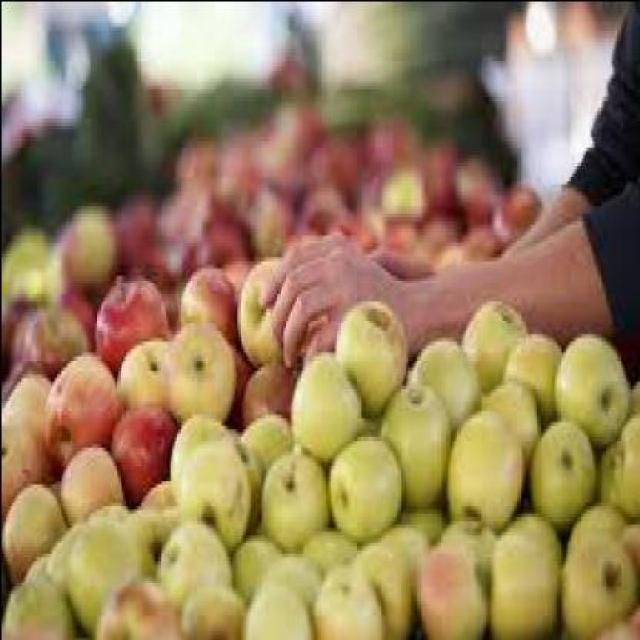BIODEGRADABLE: (62, 512, 153, 630), (558, 502, 636, 629), (442, 402, 520, 522), (486, 509, 556, 636), (38, 348, 112, 464), (550, 326, 624, 440), (156, 318, 233, 424), (324, 424, 398, 534), (173, 434, 244, 548), (91, 263, 169, 366), (376, 380, 444, 498), (332, 292, 402, 406), (287, 339, 358, 450), (258, 442, 327, 553), (414, 530, 484, 636), (526, 413, 594, 519), (404, 325, 476, 421), (109, 399, 176, 501), (55, 435, 123, 527), (496, 322, 558, 421), (153, 519, 229, 599), (460, 292, 525, 385), (2, 474, 60, 574), (351, 541, 411, 636), (93, 570, 178, 636), (233, 248, 282, 359), (307, 563, 378, 637), (167, 410, 228, 490), (2, 569, 69, 637), (593, 414, 638, 515), (175, 259, 234, 333), (478, 372, 536, 446), (175, 256, 234, 326), (242, 575, 309, 636), (0, 406, 38, 512), (20, 304, 85, 365), (62, 202, 111, 282), (178, 575, 240, 636), (302, 128, 353, 202), (109, 194, 156, 268), (114, 336, 166, 402), (240, 182, 286, 256), (2, 217, 48, 289), (228, 526, 278, 592), (488, 180, 538, 246), (454, 147, 500, 216), (374, 154, 426, 215), (418, 134, 458, 208), (268, 92, 318, 150), (240, 358, 286, 420), (231, 428, 260, 526), (366, 109, 414, 165), (216, 131, 264, 187), (127, 504, 167, 570), (196, 205, 244, 260), (173, 128, 218, 186), (293, 178, 342, 231), (265, 549, 320, 596), (378, 523, 424, 579), (242, 405, 288, 461), (265, 149, 309, 202), (13, 256, 61, 304), (298, 527, 353, 567), (433, 516, 492, 552), (151, 222, 191, 275), (53, 281, 93, 333), (157, 183, 200, 231), (47, 520, 78, 586), (247, 117, 282, 172), (56, 285, 93, 337), (2, 363, 48, 403), (416, 210, 458, 252), (1, 291, 28, 355), (136, 476, 173, 519), (376, 216, 418, 250), (462, 219, 500, 256), (338, 200, 372, 238), (80, 494, 131, 518), (8, 312, 27, 373), (432, 231, 462, 260), (355, 128, 374, 164), (625, 369, 637, 403)
